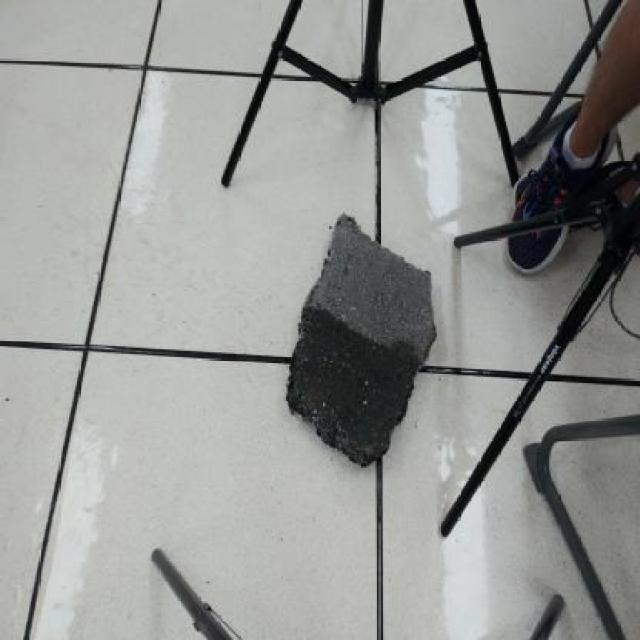Road Debris: (284, 305, 422, 464)
